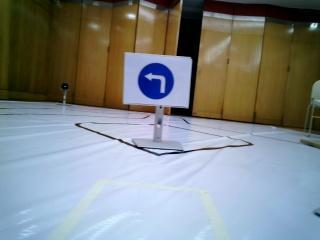left: (125, 53, 189, 105)
